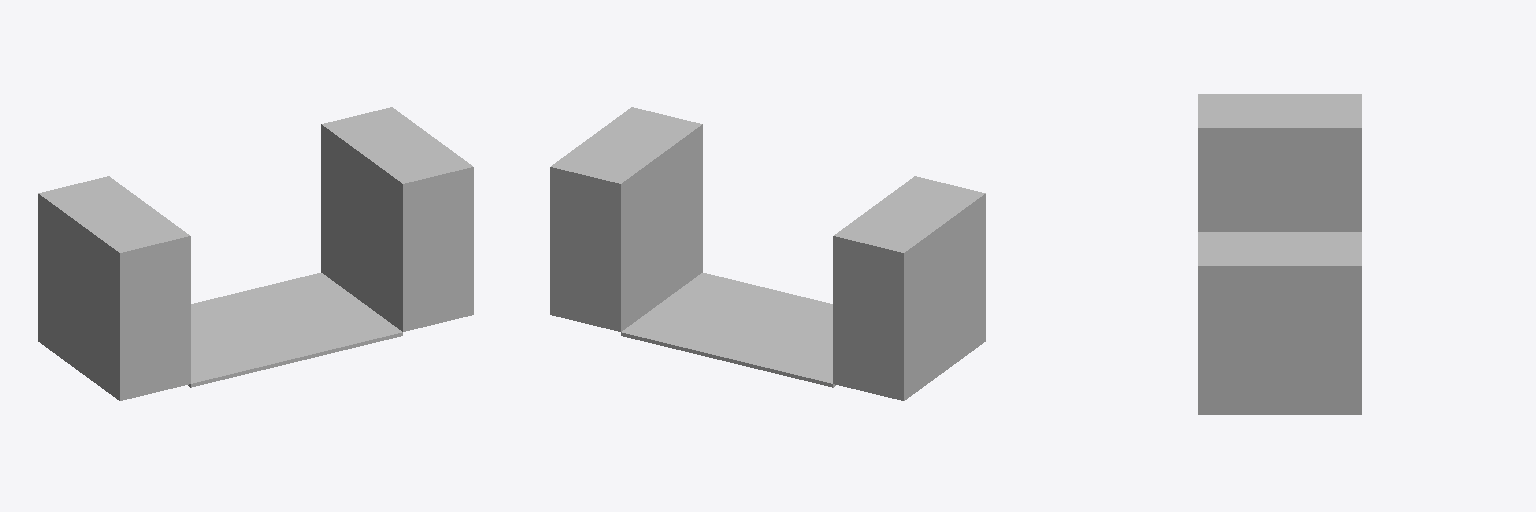
The model's file is walls.obj.
3 views of the same model, side by side, from view 1: azimuth 30°, elevation 25°; view 2: azimuth 150°, elevation 25°; view 3: azimuth 270°, elevation 25° (orthographic).
Parts seen in each view (by area): view 1: Cube.1, Cube, Cube.2; view 2: Cube.1, Cube, Cube.2; view 3: Cube.1, Cube.
Boxes of the visible parts, x1=… form: Cube.1: x1=321, y1=107, x2=473, y2=331; Cube: x1=38, y1=176, x2=190, y2=400; Cube.2: x1=188, y1=273, x2=402, y2=387; Cube.1: x1=550, y1=107, x2=702, y2=331; Cube: x1=833, y1=176, x2=985, y2=400; Cube.2: x1=621, y1=273, x2=835, y2=387; Cube.1: x1=1198, y1=232, x2=1361, y2=414; Cube: x1=1198, y1=94, x2=1361, y2=231.
Size of the model in its own units: 10 by 4.1 by 4.